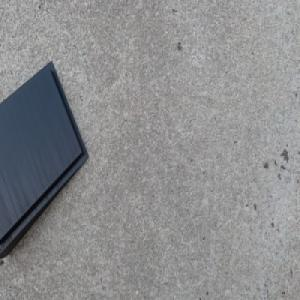PlasticPart: (0, 62, 89, 263)
